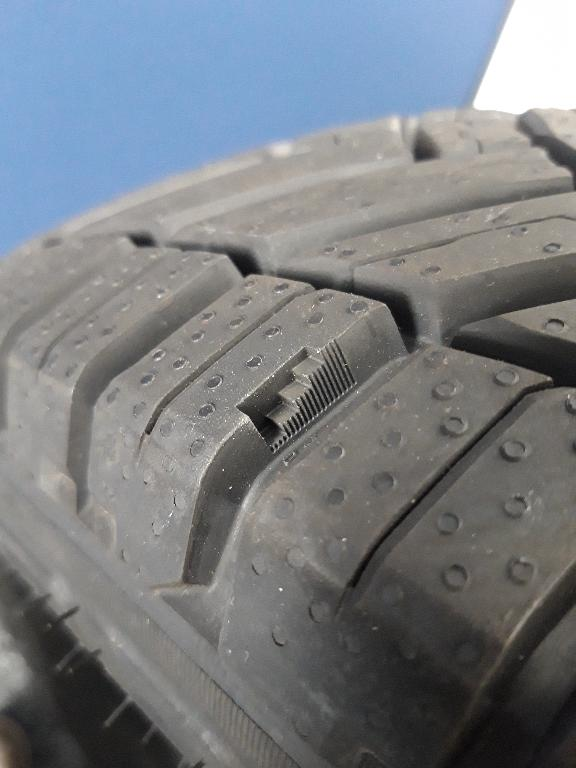temoin:100: (232, 334, 362, 459)
